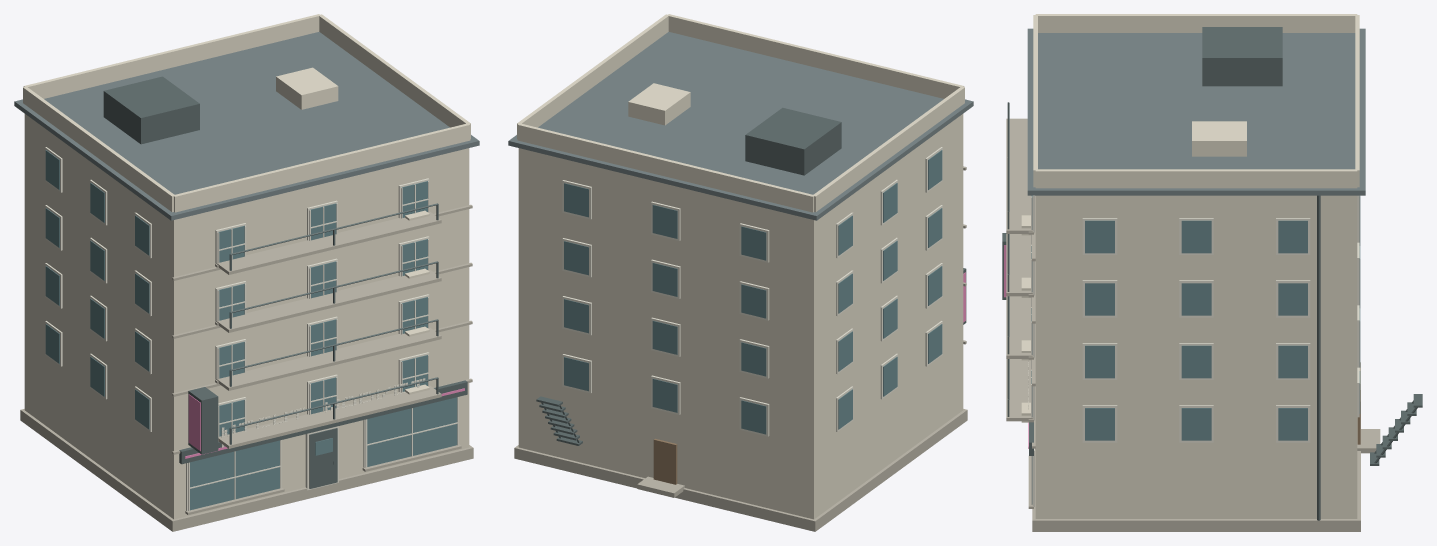
3 renders of one model, left to right at view 1: azimuth 30°, elevation 25°; view 2: azimuth 150°, elevation 25°; view 3: azimuth 270°, elevation 25°, orthographic. The views are drawn at different scales.
Bounding box in the file's own units: 16.7 × 17.83 × 18.3.
